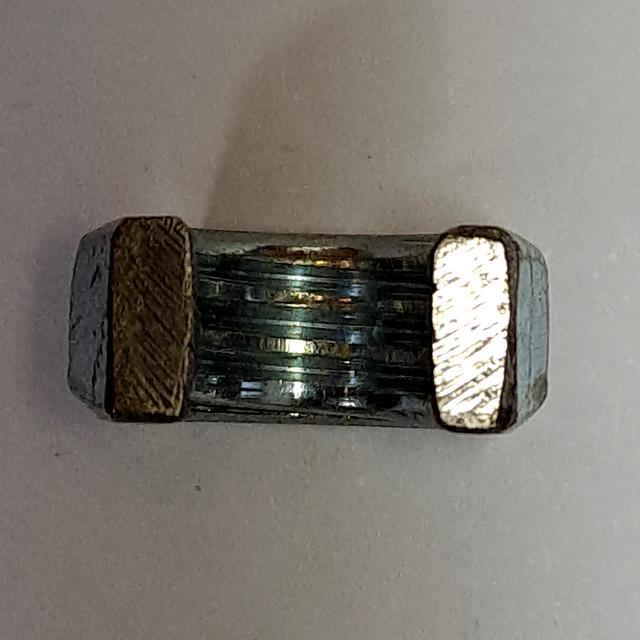Side-Fracture: (51, 205, 570, 452)
